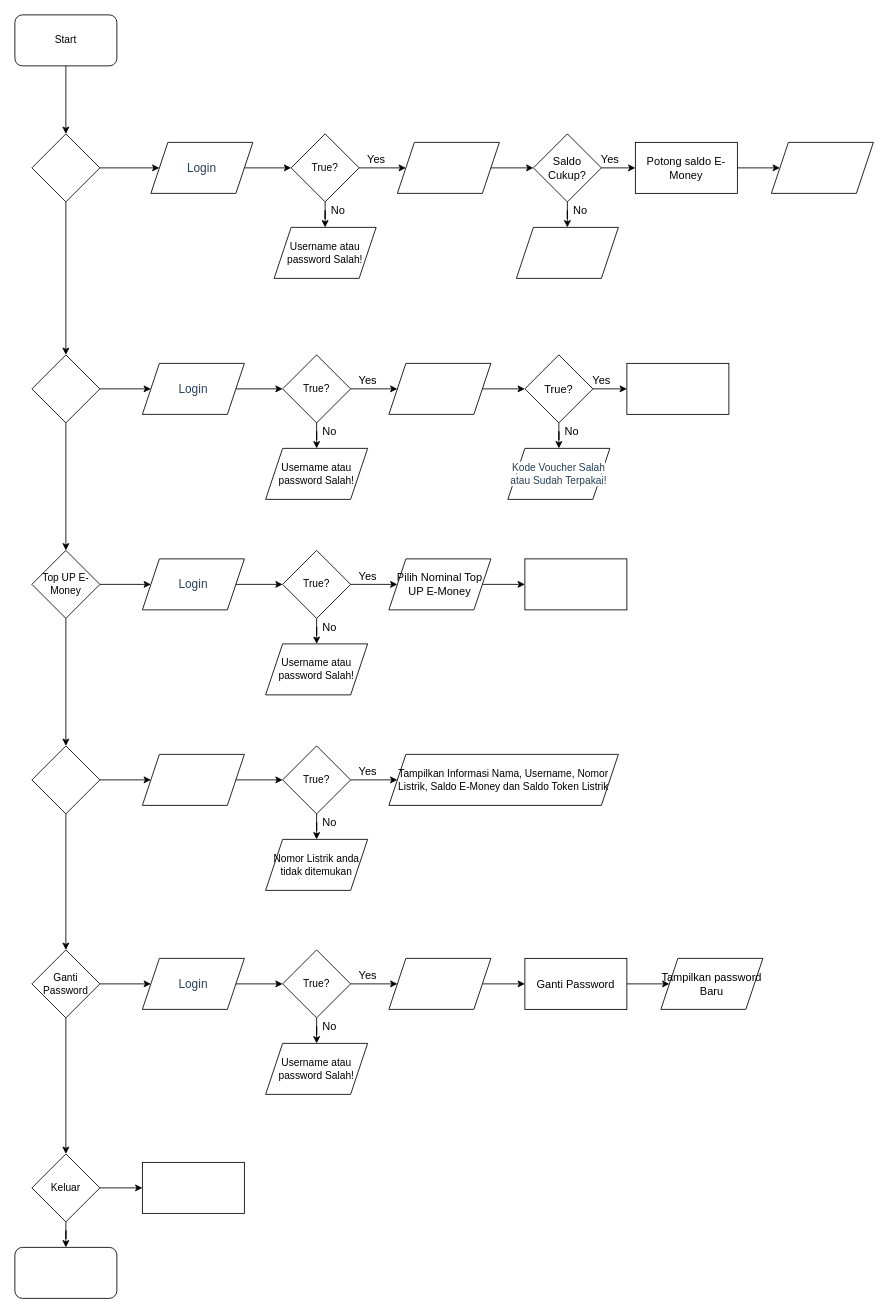
The diagram is 888 pixels wide and 1313 high, and some of its shapes have lost their labels. The centre of each missing label's shape, as x and y in pixels:
Beli Token Listrik: pixel 65 167
Break: pixel 193 1187
Cek Info: pixel 65 779
End: pixel 65 1272
Masukkan Kode Voucher: pixel 439 388
Masukkan Nomor Listrik Anda: pixel 193 779
Masukkan password Baru: pixel 439 983
Pilih Nominal Voucher yang Diinginkan: pixel 448 167
Reedem Voucher Listrik: pixel 65 388
Saldo anda tidak cukup!: pixel 567 252
Tambahkan Saldo E-Money: pixel 575 584
Tambahkan Saldo Token Listrik: pixel 677 388
Tampilkan Voucher!: pixel 822 167
